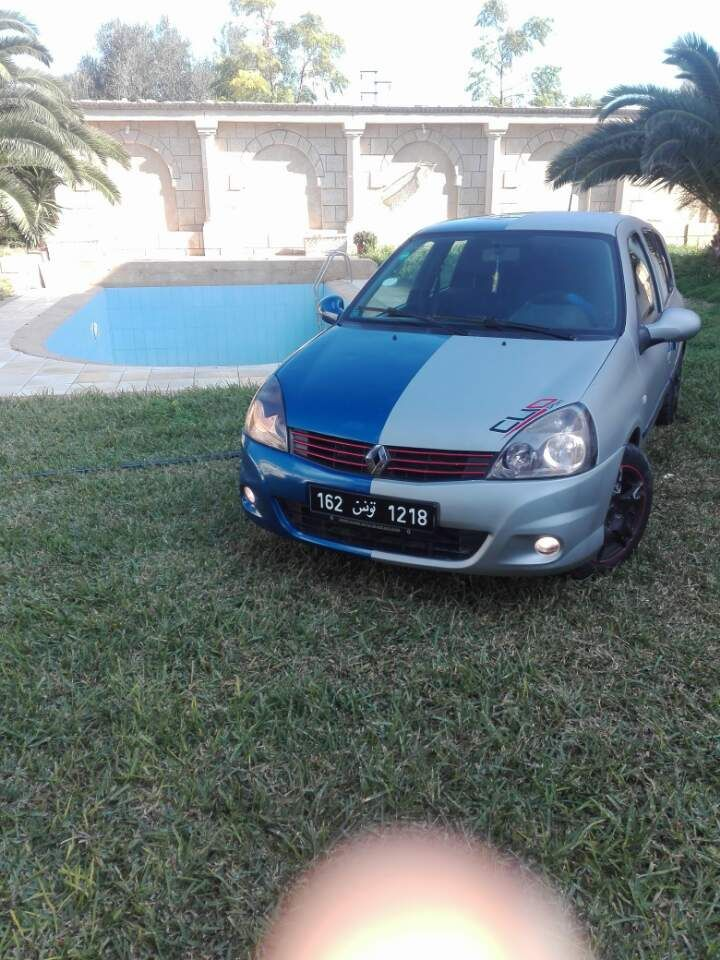LP: (306, 480, 438, 535)
